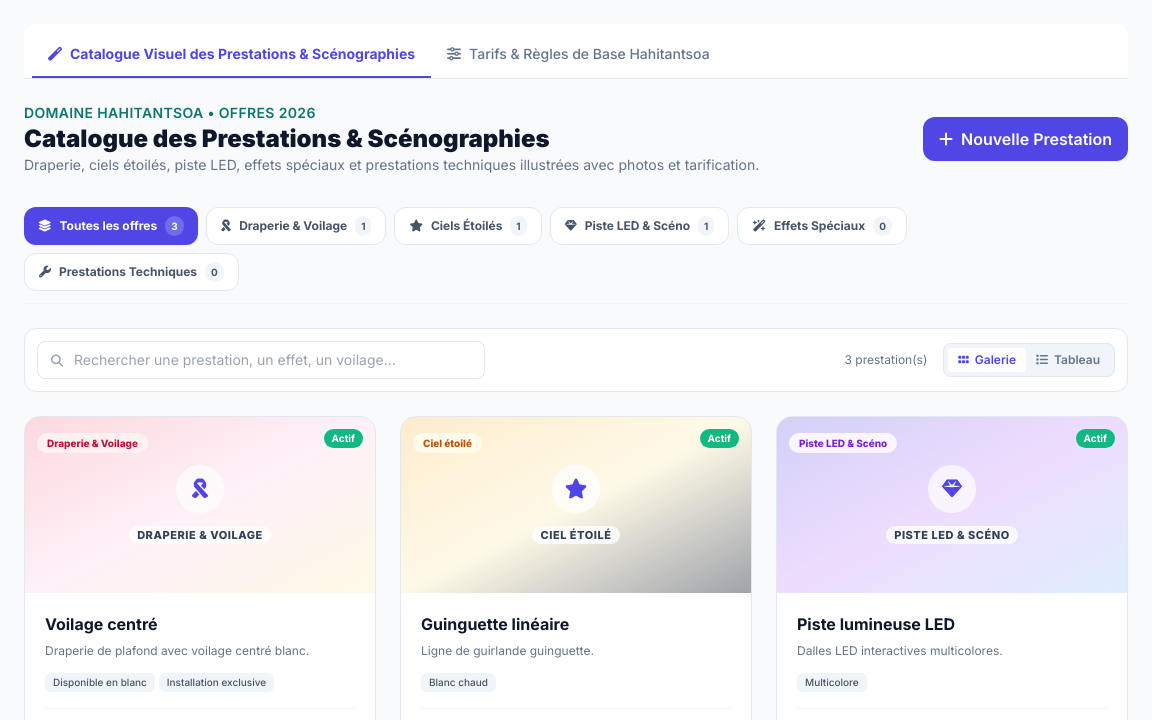
Test: ServicesPage › switches to table view correctly
Expected: the heading "Voilage centré" is shown, left=45, top=614, right=158, bottom=634
Click the button "Tableau": [1068, 360] box left=1026, top=348, right=1110, bottom=372
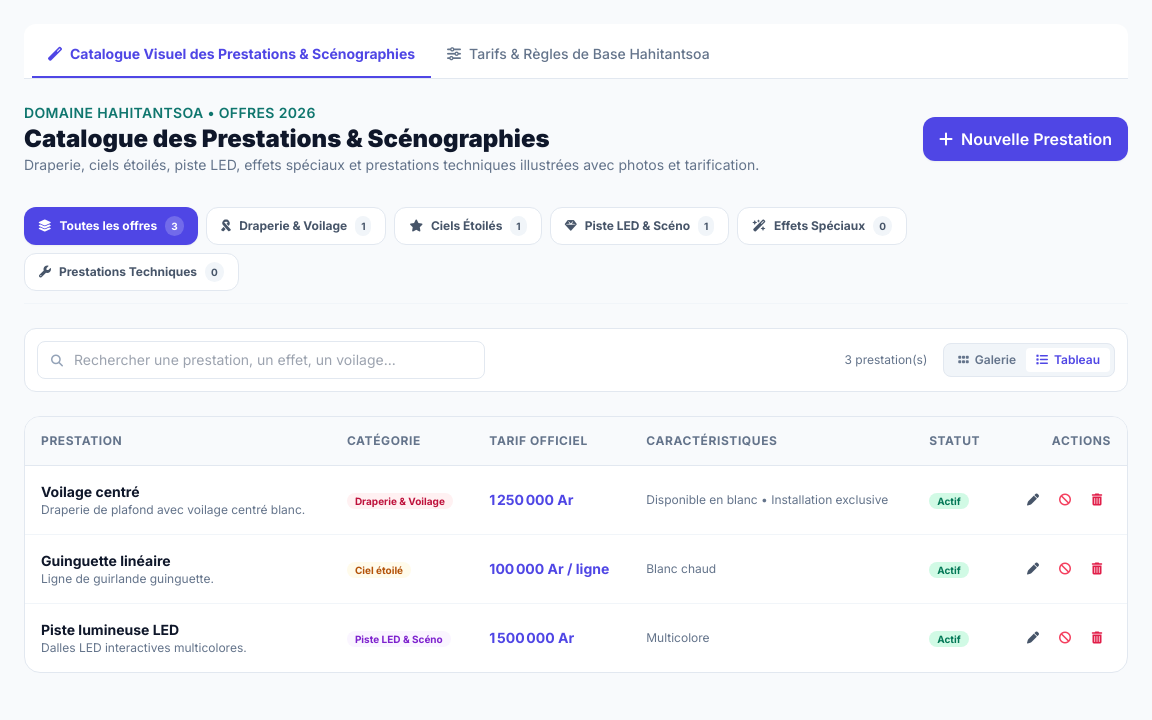
Expected: the column heading "Tarif Officiel" is shown, left=473, top=417, right=630, bottom=466
Expected: the column heading "Prestation" is shown, left=25, top=417, right=331, bottom=466
Expected: the column heading "Catégorie" is shown, left=331, top=417, right=473, bottom=466
